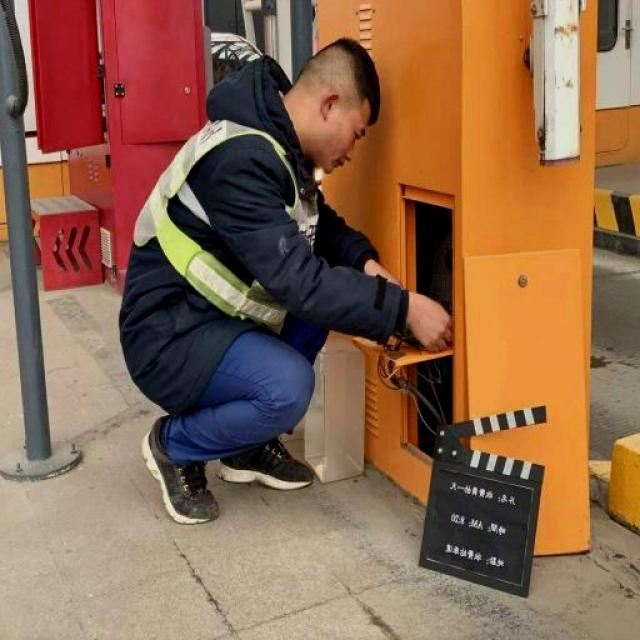face_nomask: (319, 116, 375, 182)
hand_noglove: (407, 286, 461, 355)
head_nohelmet: (328, 28, 383, 132)
person: (108, 29, 462, 526)
shoes: (128, 408, 226, 522), (208, 424, 328, 491)
vest: (130, 120, 310, 331)
